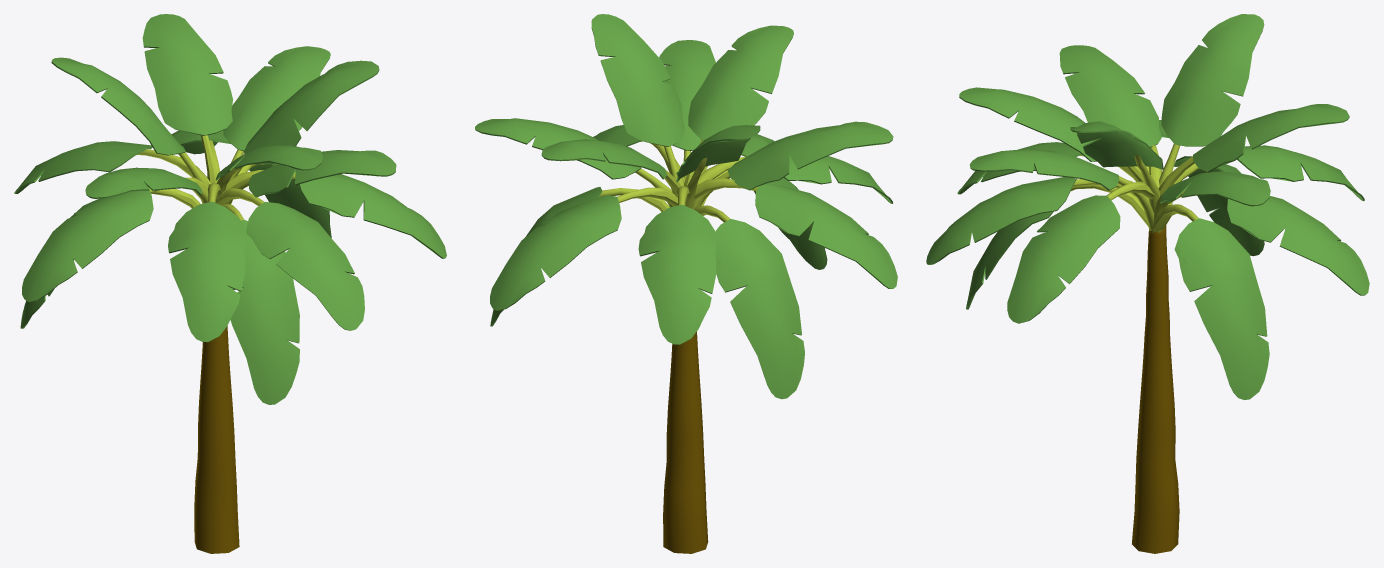
Rendered from BananaTree.fbx.
The picture shows the model from 3 angles, left to right: view 1: azimuth 30°, elevation 25°; view 2: azimuth 150°, elevation 25°; view 3: azimuth 270°, elevation 25°; orthographic projection.
Parts seen in each view (by area): view 1: Leaf_low.008, Leaf_mid.001, tree, Leaf_low.010, Leaf_low.009, Leaf_low.011, Leaf_low.001, Leaf_low.006, Leaf_High.001, Leaf_High, Leaf_low.007, Leaf_low.003 (+5 smaller); view 2: Leaf_low.004, Leaf_low.003, tree, Leaf_High.001, Leaf_low.002, Leaf_mid, Leaf_low.011, Leaf_low, Leaf_low.001, Leaf_low.007, Leaf_mid.001, Leaf_High (+4 smaller); view 3: tree, Leaf_low.005, Leaf_High, Leaf_low.006, Leaf_low, Leaf_low.002, Leaf_low.009, Leaf_mid.001, Leaf_mid, Leaf_low.007, Leaf_High.001, Leaf_low.003 (+4 smaller).
Boxes of the visible parts, x1,y1,x2,y2 form: Leaf_low.008: (168, 182, 247, 342); Leaf_mid.001: (142, 14, 232, 183); tree: (194, 326, 239, 553); Leaf_low.010: (221, 204, 299, 404); Leaf_low.009: (215, 187, 364, 330); Leaf_low.011: (22, 177, 208, 301); Leaf_low.001: (223, 46, 330, 162); Leaf_low.006: (225, 170, 446, 258); Leaf_High.001: (228, 60, 379, 182); Leaf_High: (51, 57, 209, 184); Leaf_low.007: (223, 150, 396, 204); Leaf_low.003: (14, 141, 211, 193); Leaf_low.004: (694, 205, 804, 399); Leaf_low.003: (638, 185, 717, 344); tree: (663, 331, 708, 553); Leaf_High.001: (591, 14, 684, 186); Leaf_low.002: (490, 187, 677, 310); Leaf_mid: (684, 25, 793, 186); Leaf_low.011: (694, 178, 897, 288); Leaf_low: (693, 121, 893, 209); Leaf_low.001: (475, 118, 673, 207); Leaf_low.007: (659, 40, 715, 179); Leaf_mid.001: (541, 139, 681, 196); Leaf_High: (676, 125, 760, 208); tree: (1132, 225, 1179, 553); Leaf_low.005: (1150, 204, 1269, 399); Leaf_High: (1159, 14, 1264, 185); Leaf_low.006: (1007, 181, 1155, 323); Leaf_low: (1059, 45, 1161, 172); Leaf_low.002: (1167, 190, 1369, 295); Leaf_low.009: (926, 177, 1136, 264); Leaf_mid.001: (1158, 104, 1349, 196); Leaf_mid: (959, 87, 1145, 183); Leaf_low.007: (969, 149, 1154, 233); Leaf_High.001: (1070, 121, 1163, 212); Leaf_low.003: (1159, 145, 1364, 201).
Bounding box in the file's own units: 1150 × 1428 × 1212.
